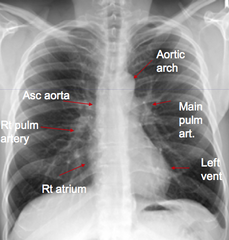telestration: (178, 100, 203, 142), (1, 120, 38, 144), (155, 49, 186, 74), (198, 156, 225, 181), (22, 89, 70, 101), (40, 183, 86, 194), (132, 58, 152, 79), (58, 162, 84, 176), (37, 124, 75, 133), (61, 100, 93, 106), (152, 98, 172, 105), (169, 165, 189, 171)
